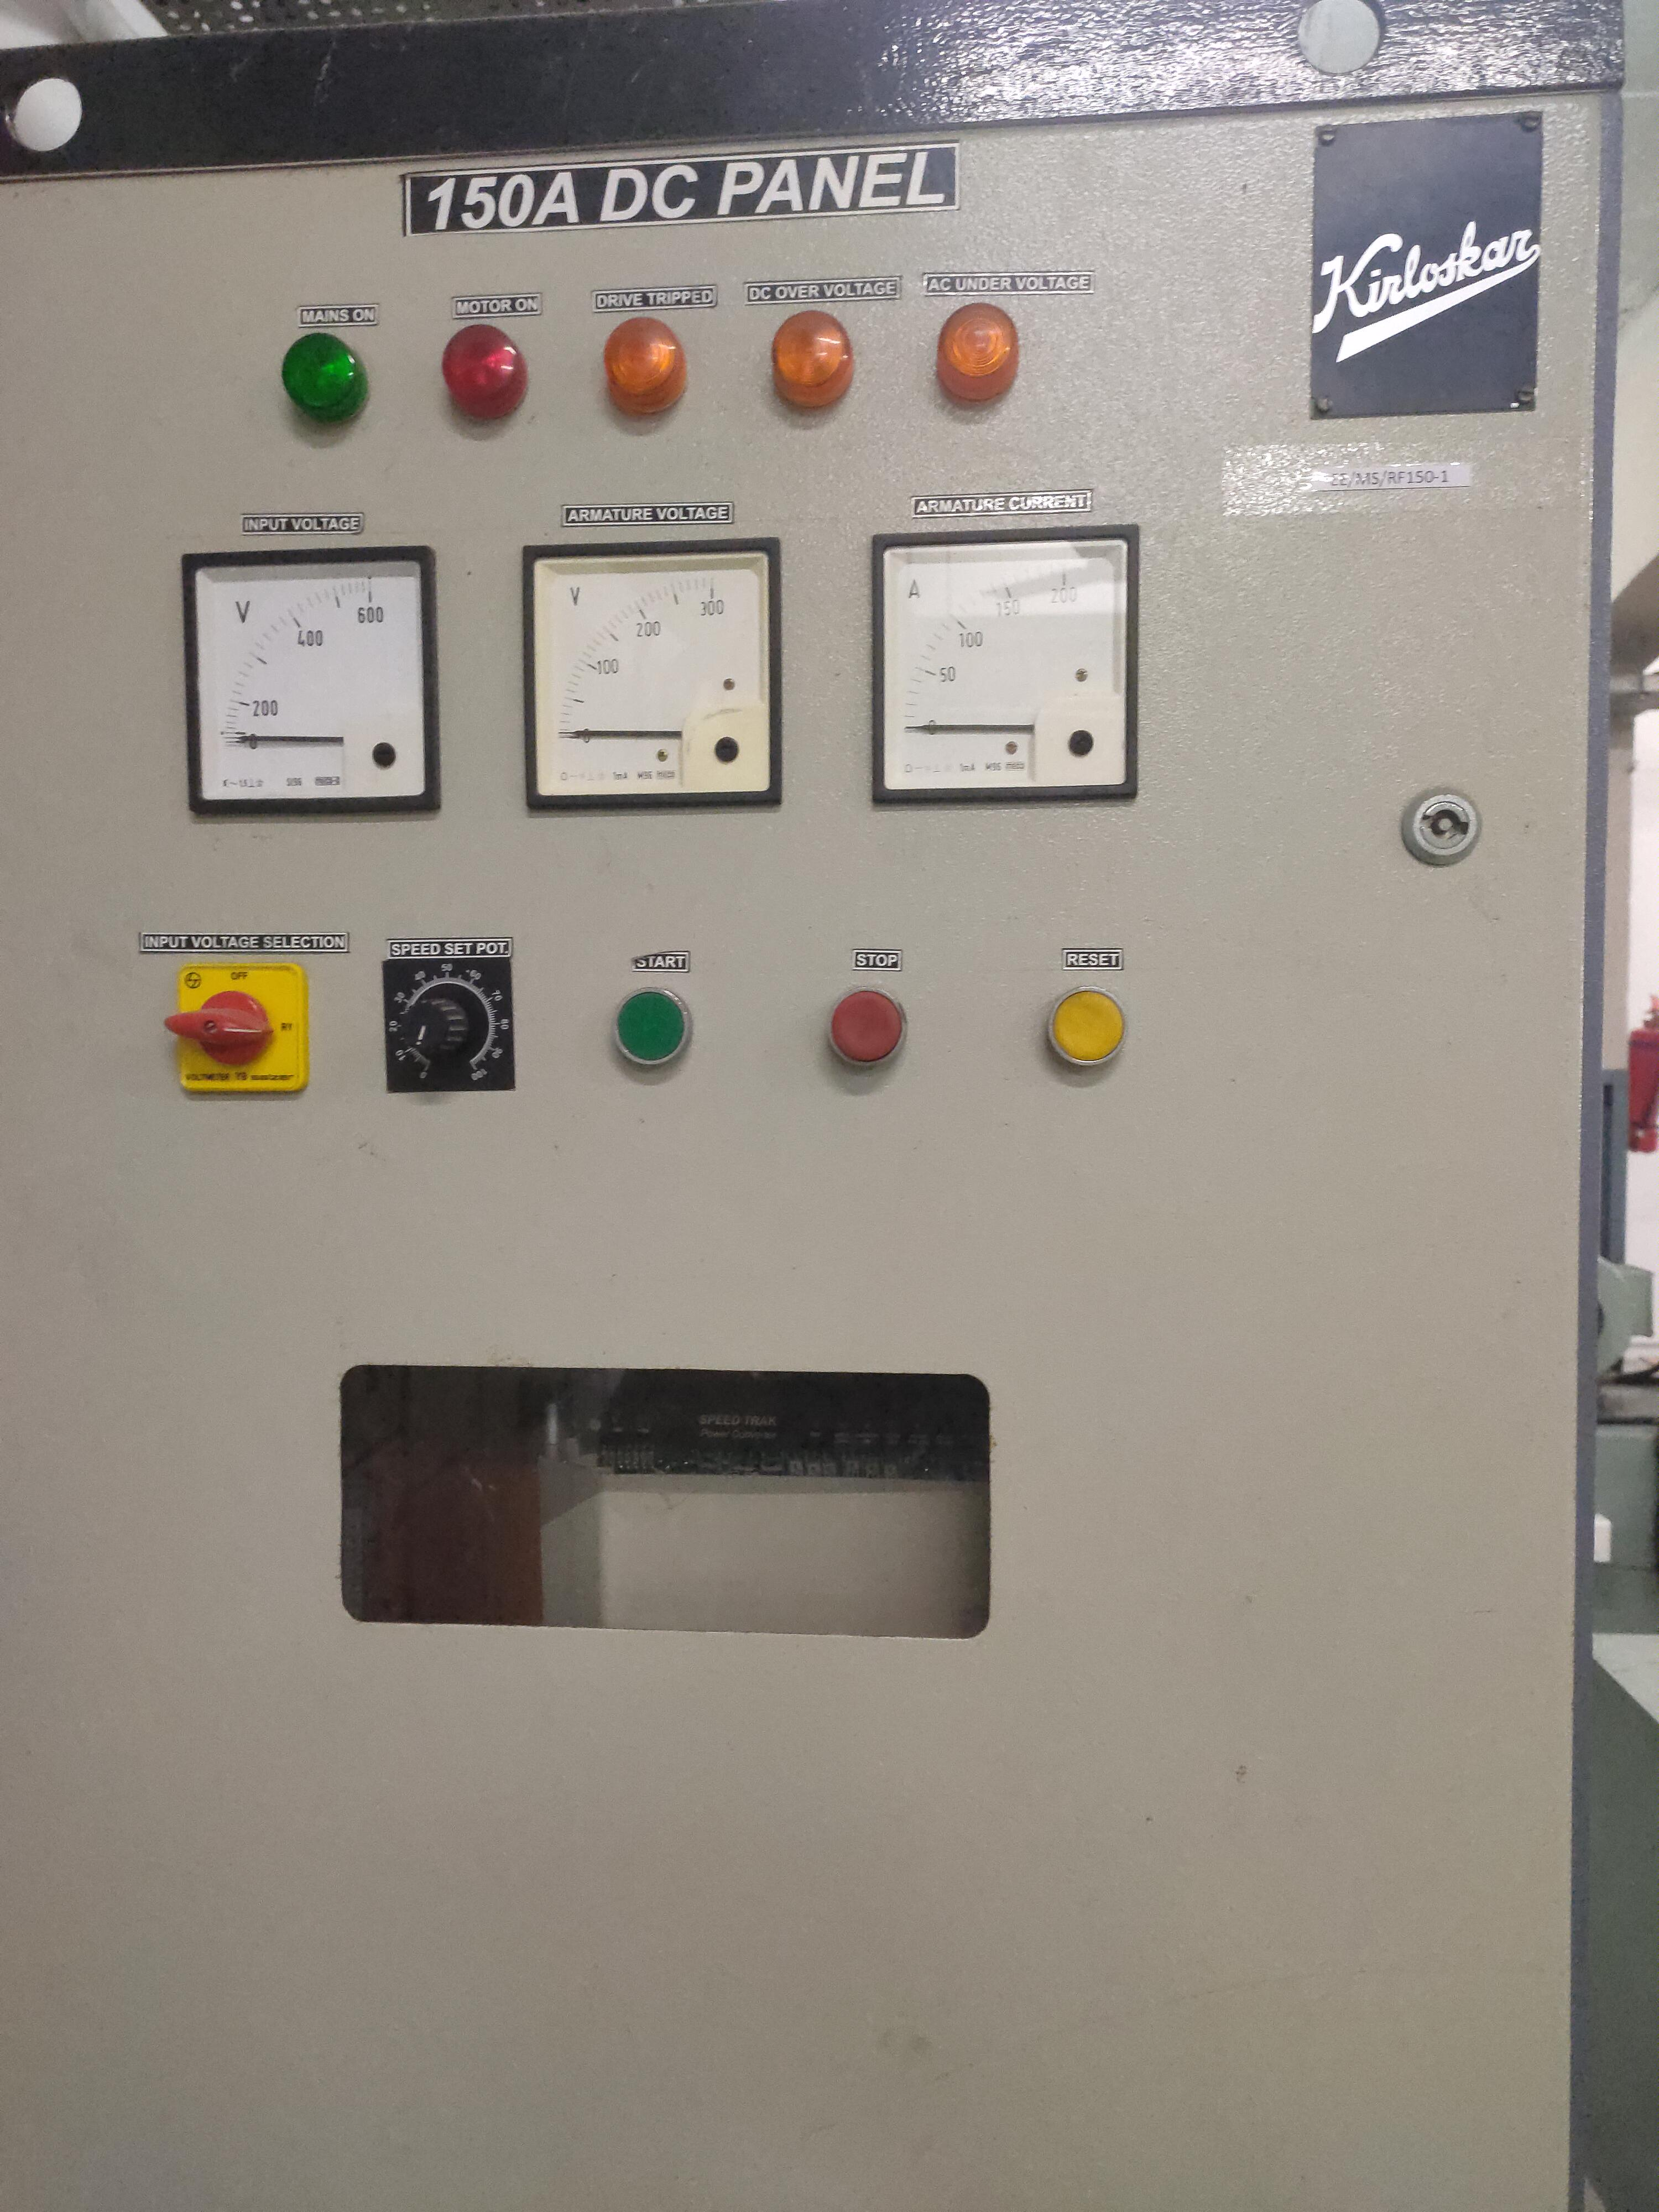Light Indications: (261, 268, 1072, 458)
